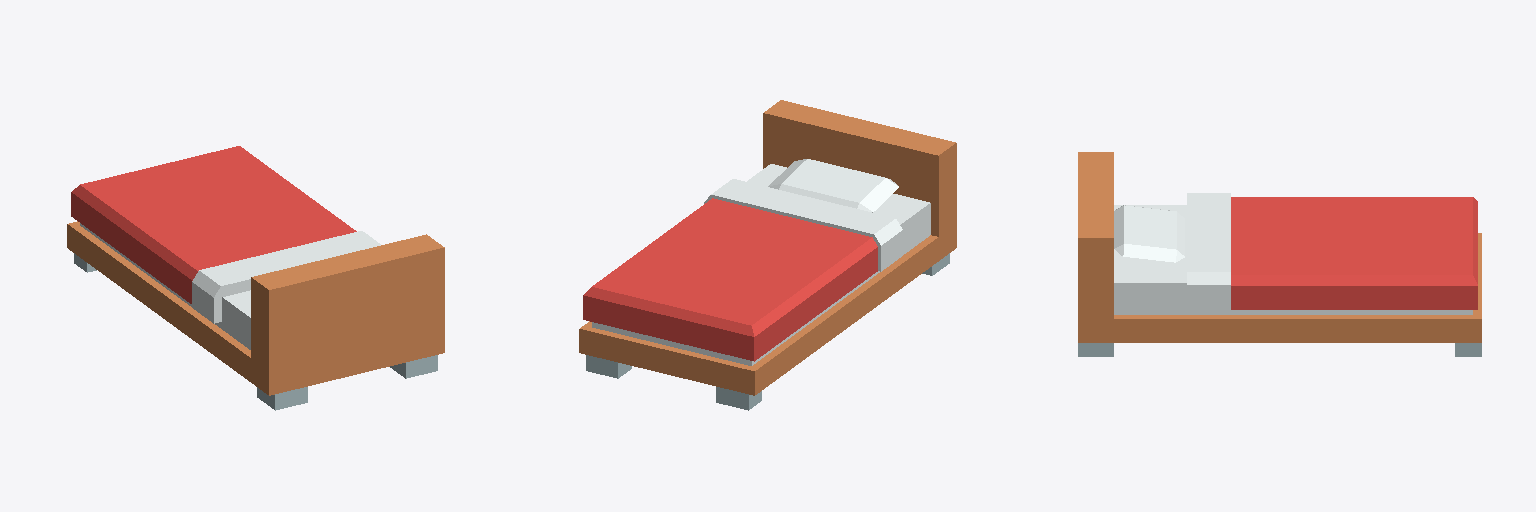
Rendered from bedSingle.obj.
3 renders of one model, left to right at view 1: azimuth 30°, elevation 25°; view 2: azimuth 150°, elevation 25°; view 3: azimuth 270°, elevation 25°, orthographic.
Parts seen in each view (by area): view 1: bedSingle, cover; view 2: cover, bedSingle, pillow; view 3: cover, bedSingle, pillow.
Boxes of the visible parts, x1,y1,x2,y2 form: bedSingle: [67, 221, 444, 410]; cover: [71, 146, 380, 323]; cover: [583, 179, 902, 361]; bedSingle: [579, 100, 956, 410]; pillow: [768, 159, 898, 212]; cover: [1187, 193, 1477, 310]; bedSingle: [1078, 152, 1481, 356]; pillow: [1114, 205, 1184, 262].
Size of the model in its own units: 0.571 by 0.375 by 1.12.